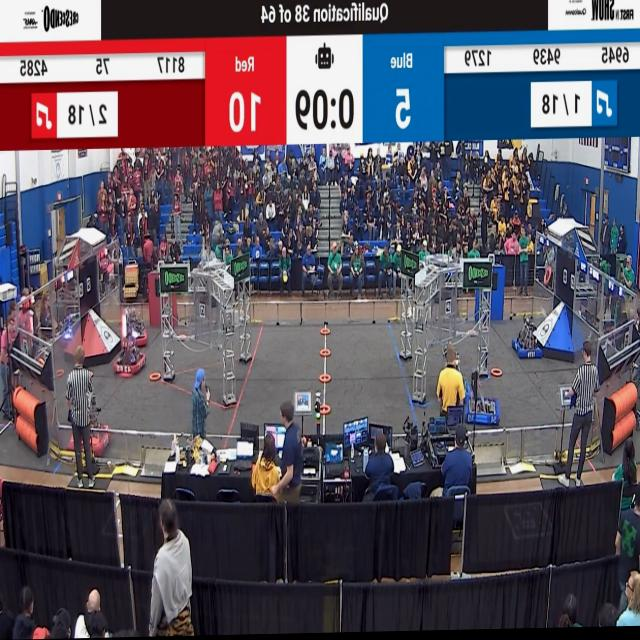Robot: (66, 359, 112, 459), (463, 346, 501, 434), (113, 307, 148, 381), (120, 286, 156, 349), (508, 315, 542, 368)
